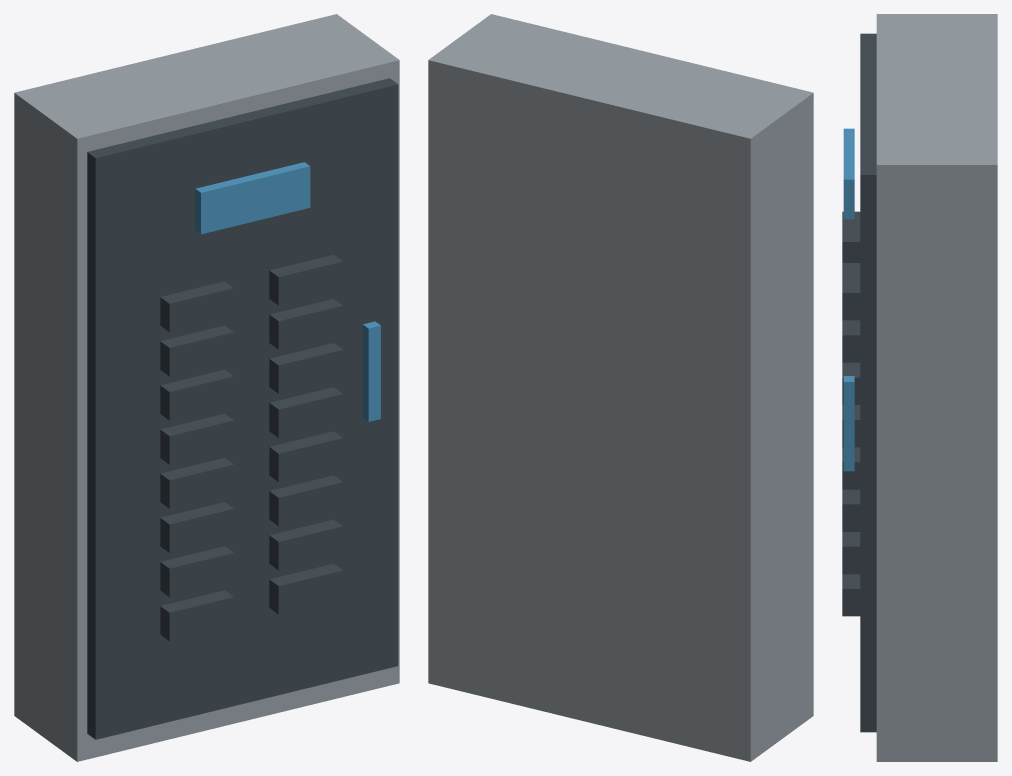
File: panelboard-representative.gltf
3 views of the same model, side by side, from view 1: azimuth 30°, elevation 25°; view 2: azimuth 150°, elevation 25°; view 3: azimuth 270°, elevation 25° (orthographic). The views are drawn at different scales.
Visible parts, largest first — view 1: door, cabinet, label, breakerR3, breakerR1, breakerR5, breakerR7, breakerR0, breakerR2, breakerR4, breakerR6, breakerL0 (+8 smaller); view 2: cabinet; view 3: cabinet, door, handle, label, breakerR7, breakerL7, breakerR6, breakerR0, breakerR1, breakerR2, breakerR3, breakerR5 (+1 smaller).
Part boxes in pixels (x1,y1,x2,y2): door: (87, 78, 398, 739); cabinet: (14, 14, 399, 761); label: (195, 162, 310, 234); breakerR3: (269, 431, 343, 481); breakerR1: (269, 519, 343, 570); breakerR5: (269, 343, 343, 393); breakerR7: (269, 254, 343, 305); breakerR0: (269, 563, 343, 614); breakerR2: (269, 475, 343, 526); breakerR4: (269, 387, 343, 437); breakerR6: (269, 299, 343, 349); breakerL0: (160, 590, 233, 641); cabinet: (428, 14, 813, 761); cabinet: (876, 14, 997, 761); door: (860, 33, 876, 732); handle: (843, 376, 854, 471); label: (843, 128, 854, 219); breakerR7: (842, 263, 860, 320); breakerL7: (842, 211, 860, 262); breakerR6: (842, 320, 860, 362); breakerR0: (842, 574, 860, 616); breakerR1: (842, 532, 860, 574); breakerR2: (842, 489, 860, 531); breakerR3: (842, 447, 860, 489); breakerR5: (842, 362, 860, 404).
Size of the model in its own units: 0.65 by 1.2 by 0.2825.
